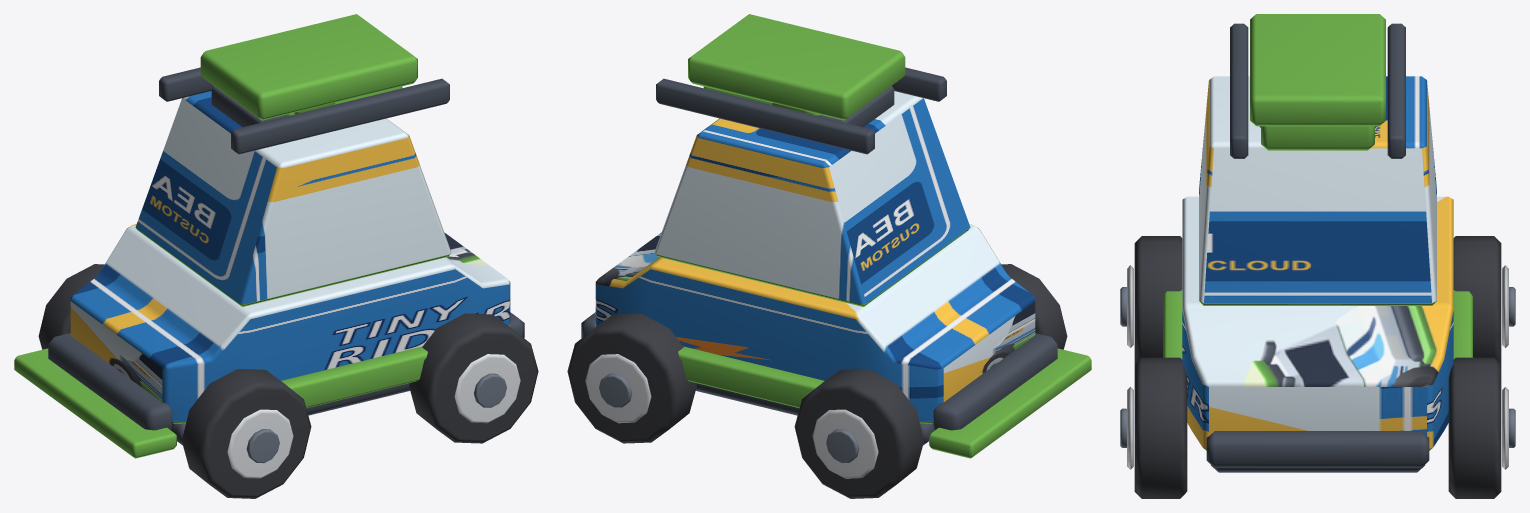
The picture shows the model from 3 angles, left to right: view 1: azimuth 30°, elevation 25°; view 2: azimuth 150°, elevation 25°; view 3: azimuth 270°, elevation 25°; orthographic projection. The views are drawn at different scales.
Parts seen in each view (by area): view 1: CC-02_cabin, CC-02_connected_shell, utility load, Tire, Tire.002, utility rail, custom chin, front bumper, custom side guard, Rim.002, Rim, Tire.001 (+5 smaller); view 2: CC-02_cabin, CC-02_connected_shell, utility load, Tire.001, Tire.003, utility rail.001, custom chin, front bumper, custom side guard.001, Rim.003, Rim.001, Tire (+5 smaller); view 3: CC-02_cabin, CC-02_connected_shell, utility load, rear bumper, Tire.002, Tire.003, Tire, Tire.001, custom equipment, utility rail, utility rail.001, custom side guard (+6 smaller).
Part boxes in pixels (left/top/right/bottom): CC-02_cabin: left=135, top=91, right=451, bottom=306; CC-02_connected_shell: left=70, top=224, right=510, bottom=423; utility load: left=200, top=14, right=417, bottom=120; Tire: left=182, top=369, right=311, bottom=498; Tire.002: left=409, top=313, right=538, bottom=443; utility rail: left=231, top=78, right=449, bottom=154; custom chin: left=14, top=348, right=176, bottom=458; front bumper: left=48, top=333, right=173, bottom=430; custom side guard: left=281, top=346, right=427, bottom=408; Rim.002: left=454, top=354, right=520, bottom=423; Rim: left=227, top=409, right=293, bottom=478; Tire.001: left=38, top=264, right=104, bottom=349; CC-02_cabin: left=654, top=91, right=970, bottom=306; CC-02_connected_shell: left=595, top=224, right=1035, bottom=423; utility load: left=688, top=14, right=905, bottom=120; Tire.001: left=794, top=369, right=923, bottom=498; Tire.003: left=567, top=313, right=696, bottom=443; utility rail.001: left=656, top=78, right=874, bottom=154; custom chin: left=929, top=348, right=1091, bottom=458; front bumper: left=932, top=333, right=1057, bottom=430; custom side guard.001: left=678, top=346, right=824, bottom=408; Rim.003: left=585, top=354, right=651, bottom=423; Rim.001: left=812, top=409, right=878, bottom=478; Tire: left=1001, top=264, right=1067, bottom=349; CC-02_cabin: left=1199, top=76, right=1436, bottom=305; CC-02_connected_shell: left=1182, top=196, right=1453, bottom=450; utility load: left=1250, top=14, right=1385, bottom=126; rear bumper: left=1206, top=431, right=1429, bottom=467; Tire.002: left=1134, top=357, right=1187, bottom=498; Tire.003: left=1448, top=357, right=1501, bottom=498; Tire: left=1134, top=236, right=1182, bottom=364; Tire.001: left=1453, top=236, right=1501, bottom=364; custom equipment: left=1261, top=126, right=1374, bottom=150; utility rail: left=1230, top=23, right=1248, bottom=158; utility rail.001: left=1387, top=23, right=1405, bottom=158; custom side guard: left=1163, top=290, right=1182, bottom=359.
Size of the model in its own units: 253 by 212 by 195.
